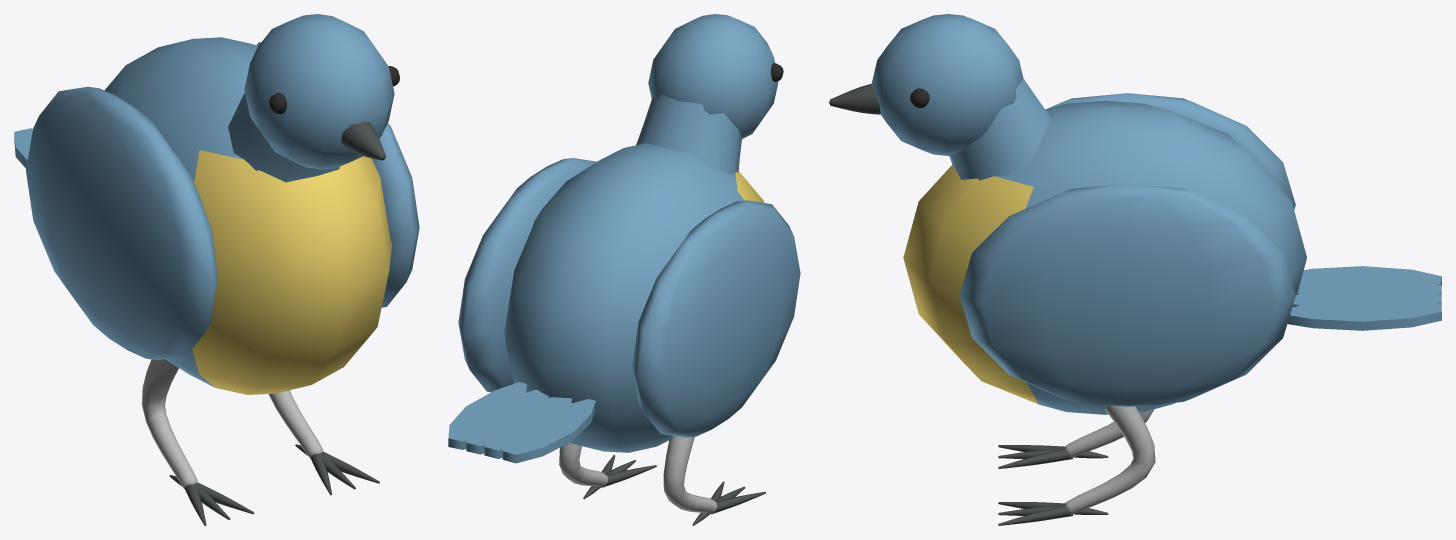
File: birds-and-flying-creatures-blue-tit-791a5759__20608.glb
The picture shows the model from 3 angles, left to right: view 1: azimuth 30°, elevation 25°; view 2: azimuth 150°, elevation 25°; view 3: azimuth 270°, elevation 25°; orthographic projection. The views are drawn at different scales.
Visible parts, largest first — view 1: blue-tit; view 2: blue-tit; view 3: blue-tit.
Boxes of the visible parts, left/top/right/bottom form: blue-tit: left=14, top=14, right=419, bottom=525; blue-tit: left=448, top=14, right=800, bottom=525; blue-tit: left=829, top=14, right=1441, bottom=525.
Size of the model in its own units: 0.0626 by 0.1103 by 0.1311.
